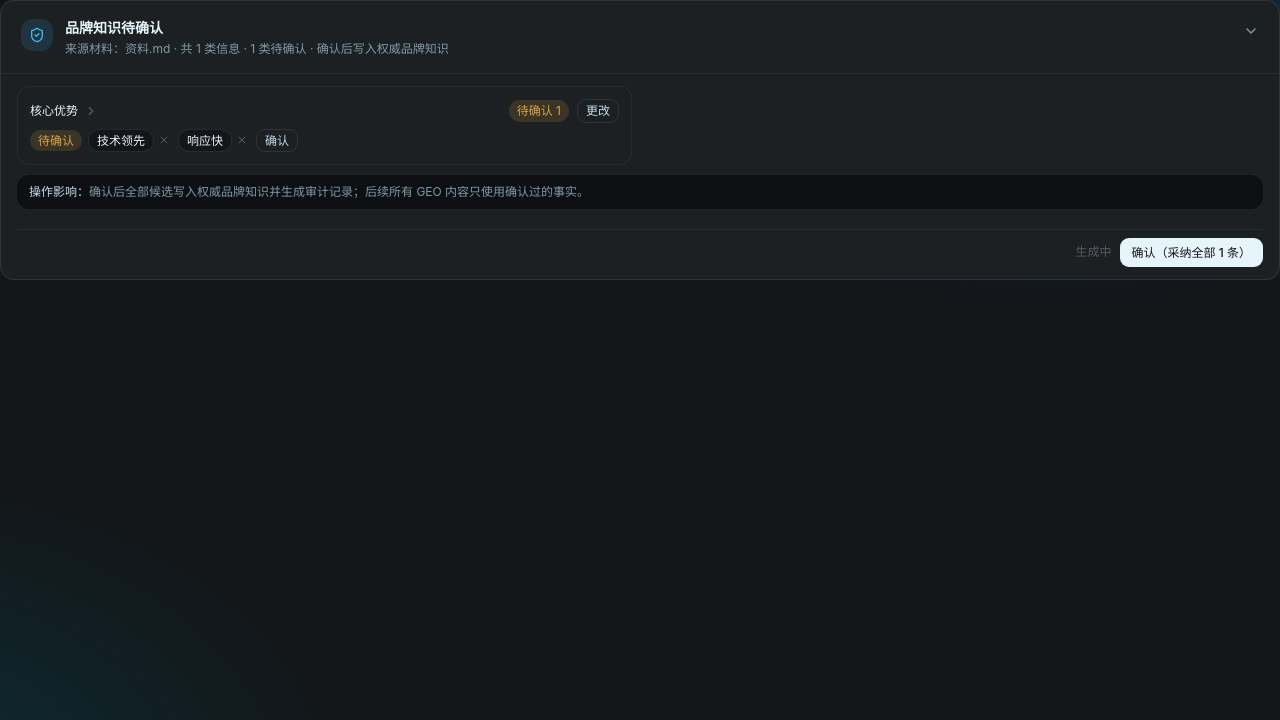
Test case: KnowledgeBatchCard（行内「更改」暂存与轮询存活） › 更改数组行：顿号分隔多值输入，保存后行变「用户补充 · 已就绪」且确认控件消失，暂存不落库
Click the button with aria-label "更改：核心优势" at (598, 111), box [577,99,619,123]
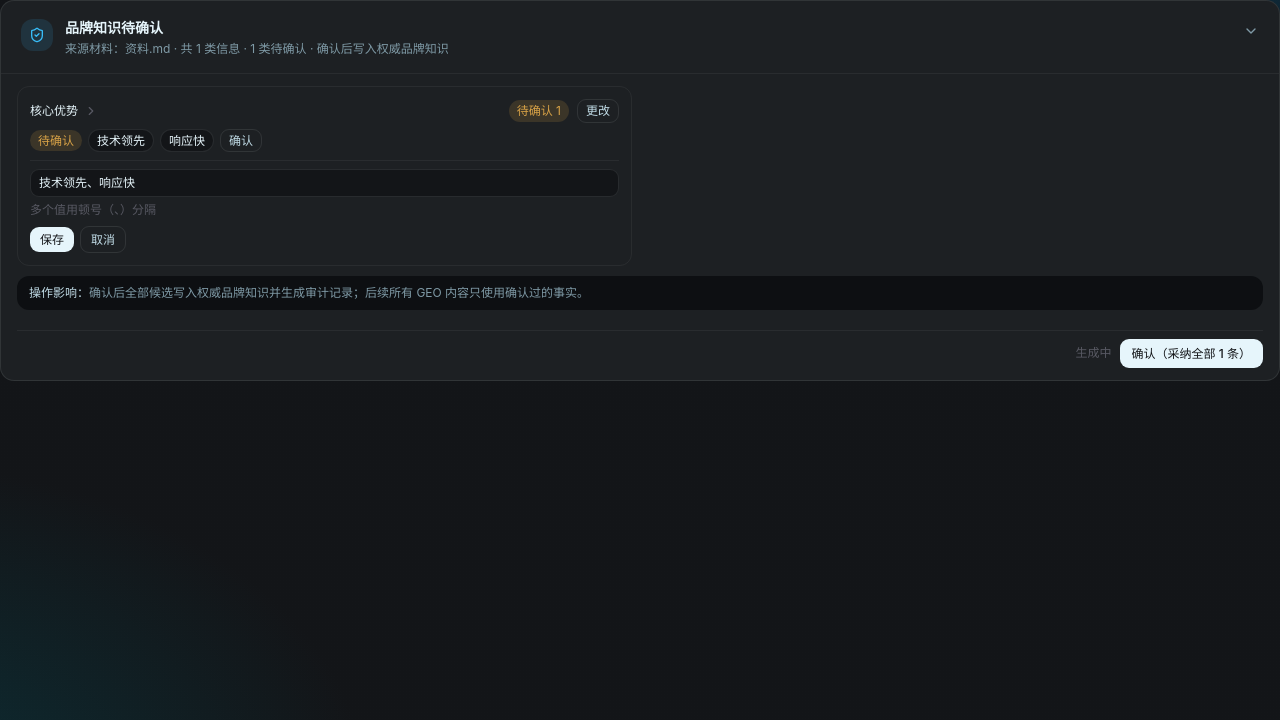
Check: the field named "核心优势" holds "技术领先、响应快"
Check: the text "多个值用顿号（、）分隔" is shown, box [30,202,156,217]
Replace the text in the field named "核心优势" with "技术领先、响应快、本地服务" at (324, 183), box [30,169,619,197]
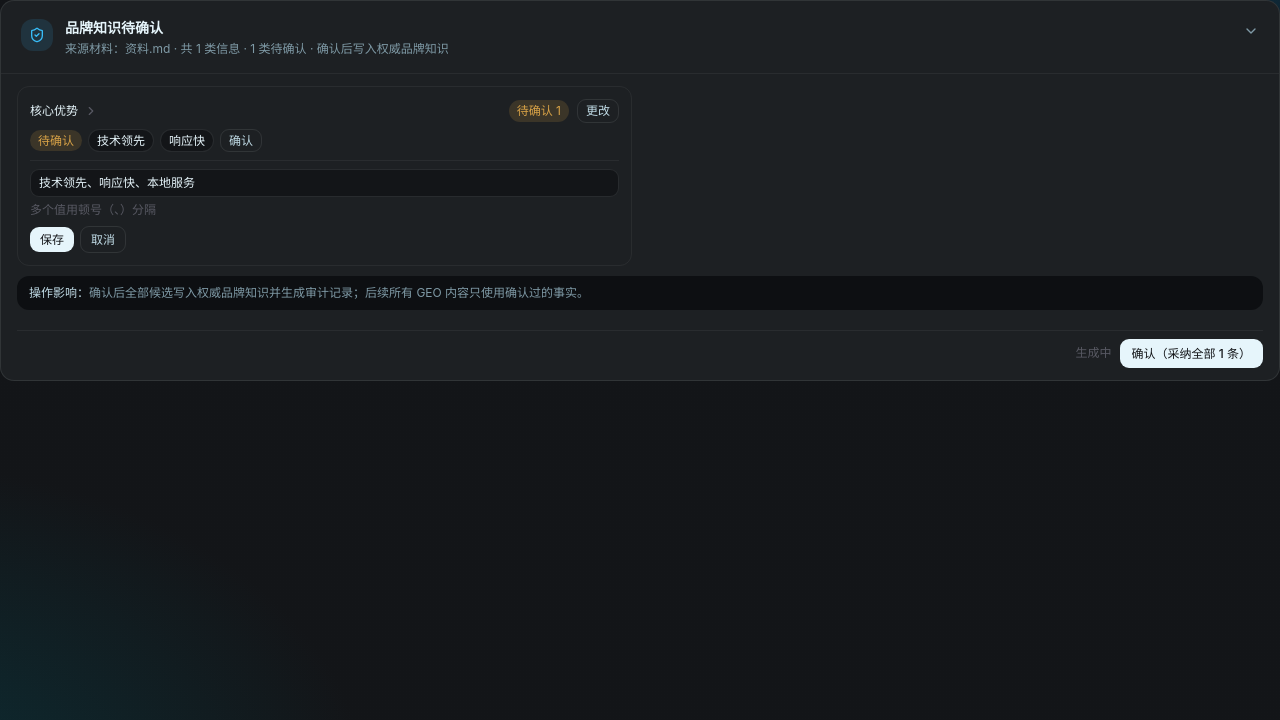
Click the button with aria-label "保存：核心优势" at (52, 240), box [30,227,74,252]
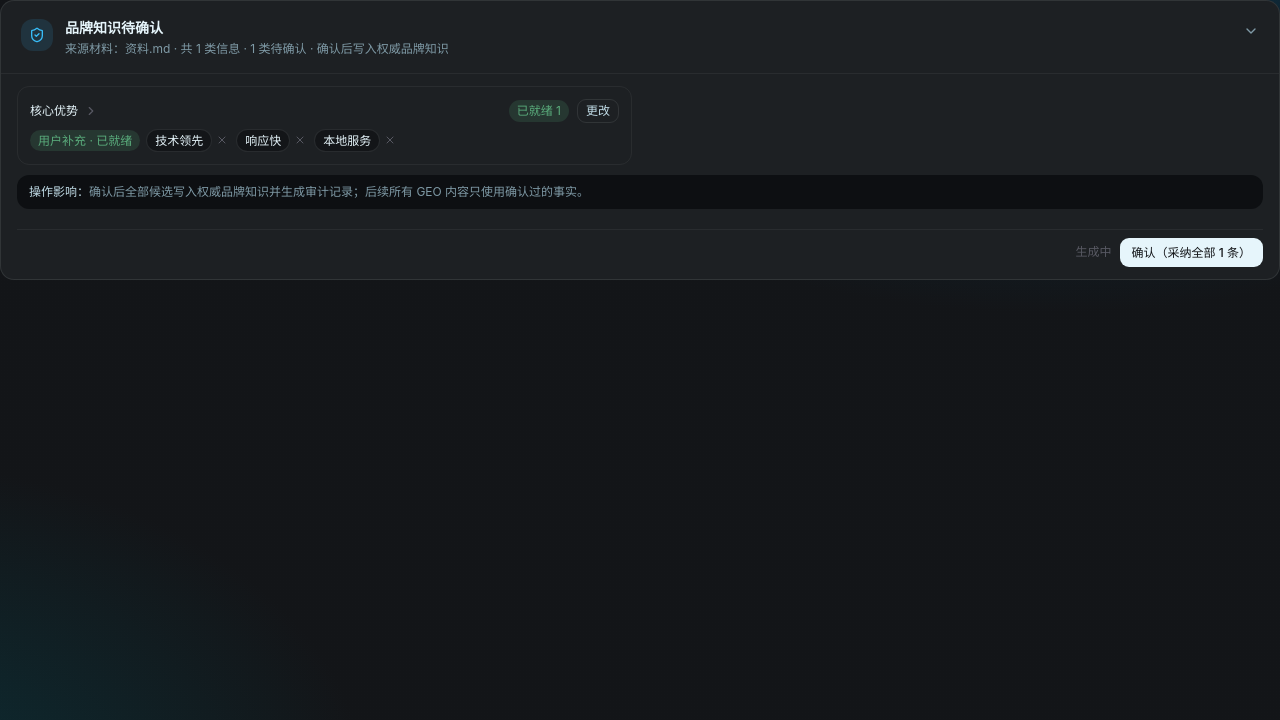
Check: the text "用户补充 · 已就绪" is shown, box [30,130,140,151]
Check: the button "确认核心优势" is gone
Check: the text "本地服务" is shown, box [323,132,371,149]
